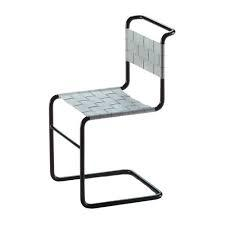chair: (33, 14, 177, 212)
